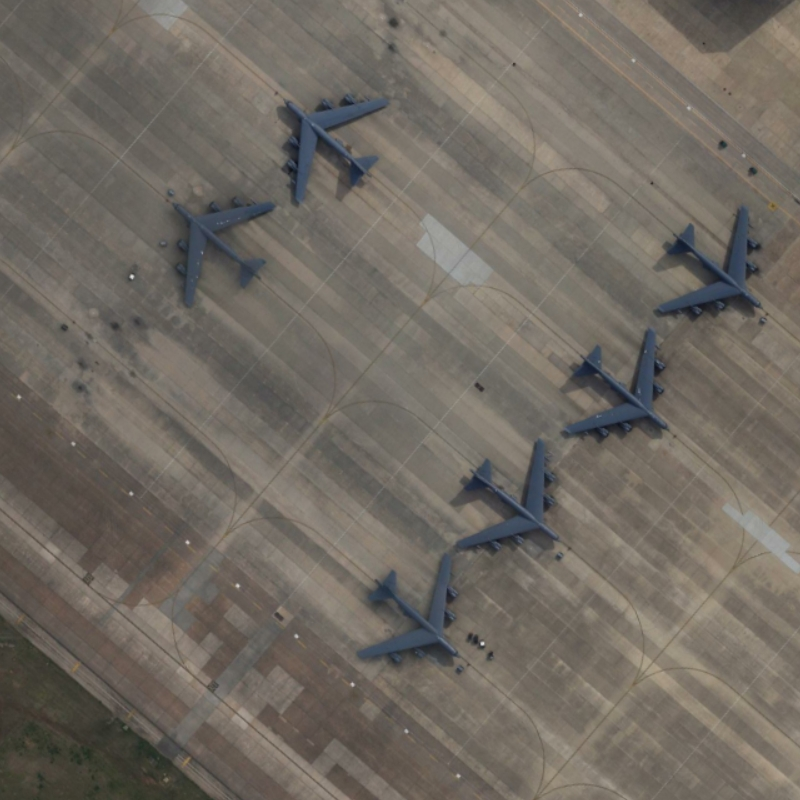A8: (449, 433, 571, 562), (347, 548, 471, 672), (651, 200, 773, 326), (557, 322, 679, 444), (161, 189, 282, 311), (274, 86, 394, 207)
